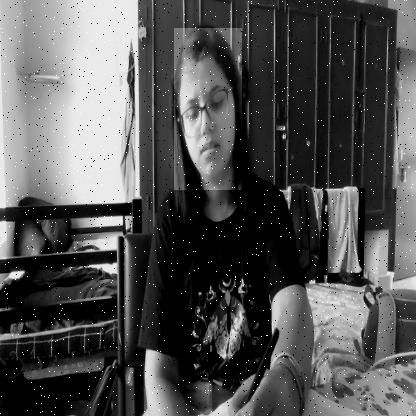Normal: (174, 28, 242, 190)
